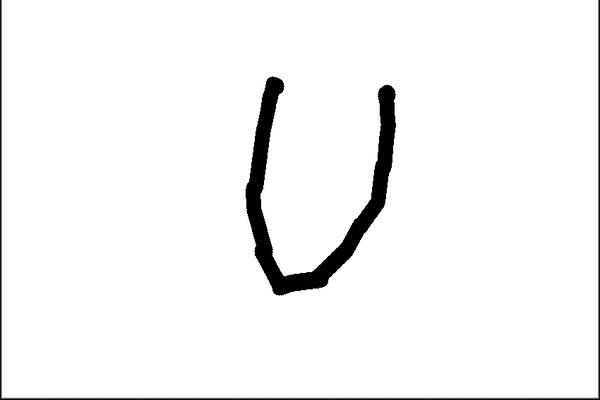U: (227, 61, 402, 297)
